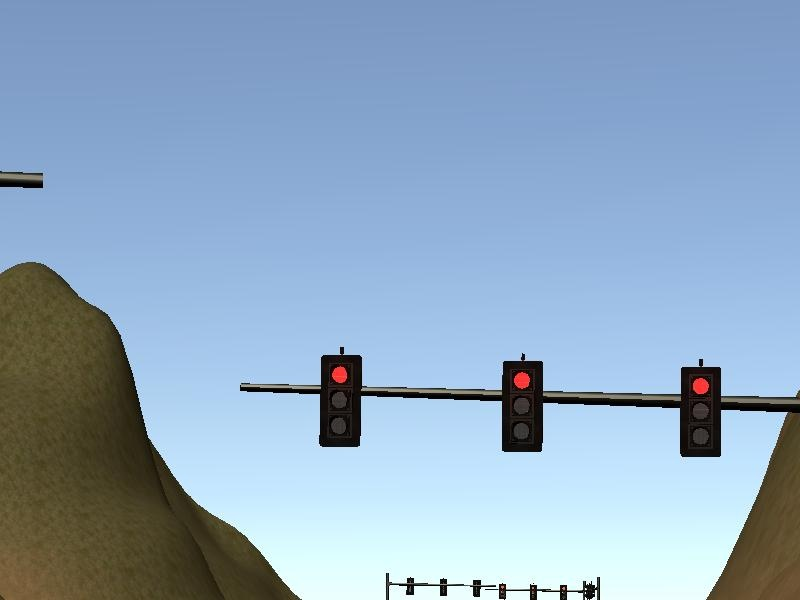RED: (681, 367, 721, 458), (502, 362, 542, 453), (320, 354, 360, 445)
